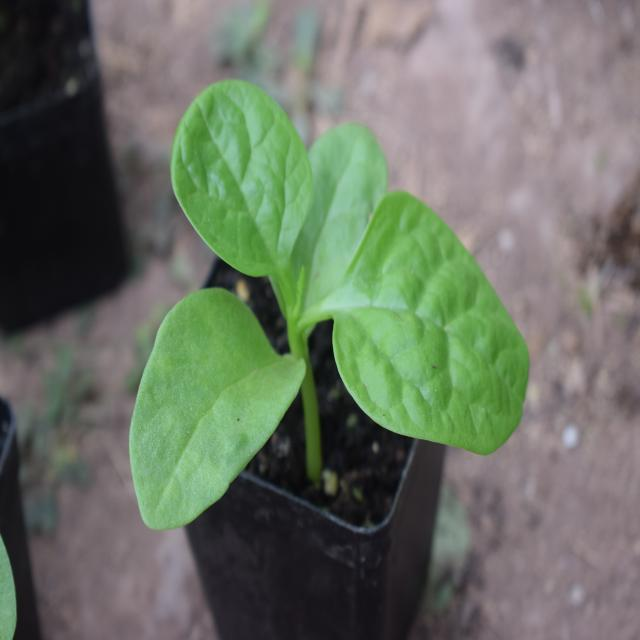Ceylon spinach: (131, 84, 528, 534)
